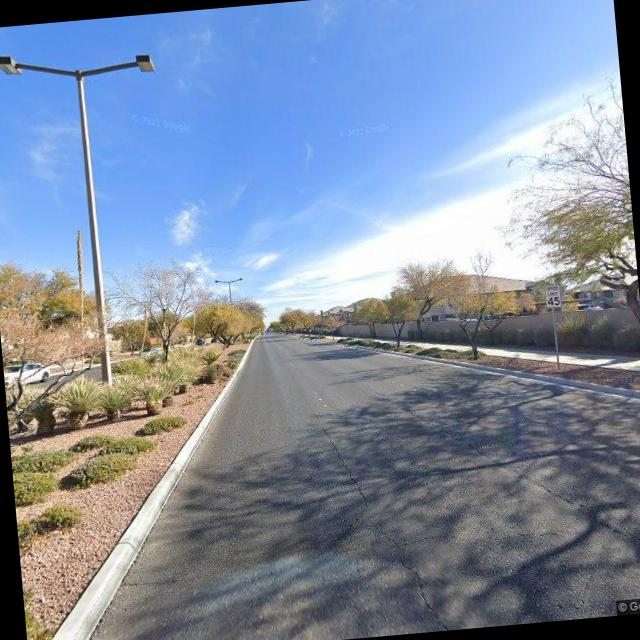pothole: (322, 408, 438, 630)
